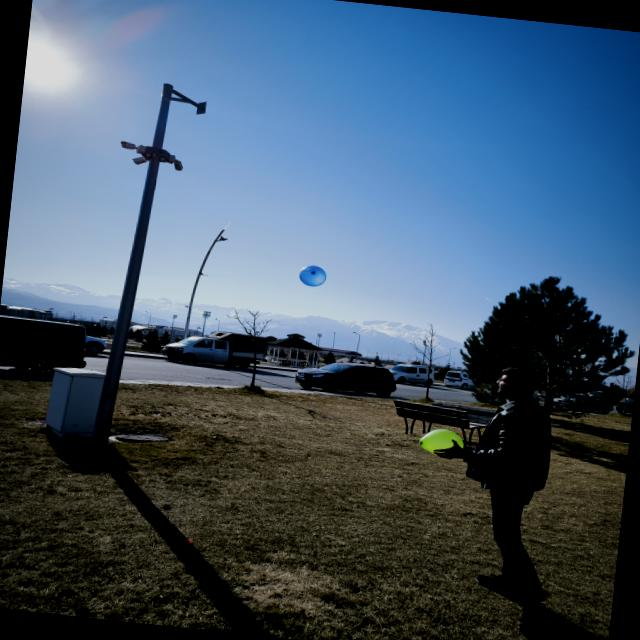balloon: (419, 428, 463, 453), (299, 265, 326, 286)
